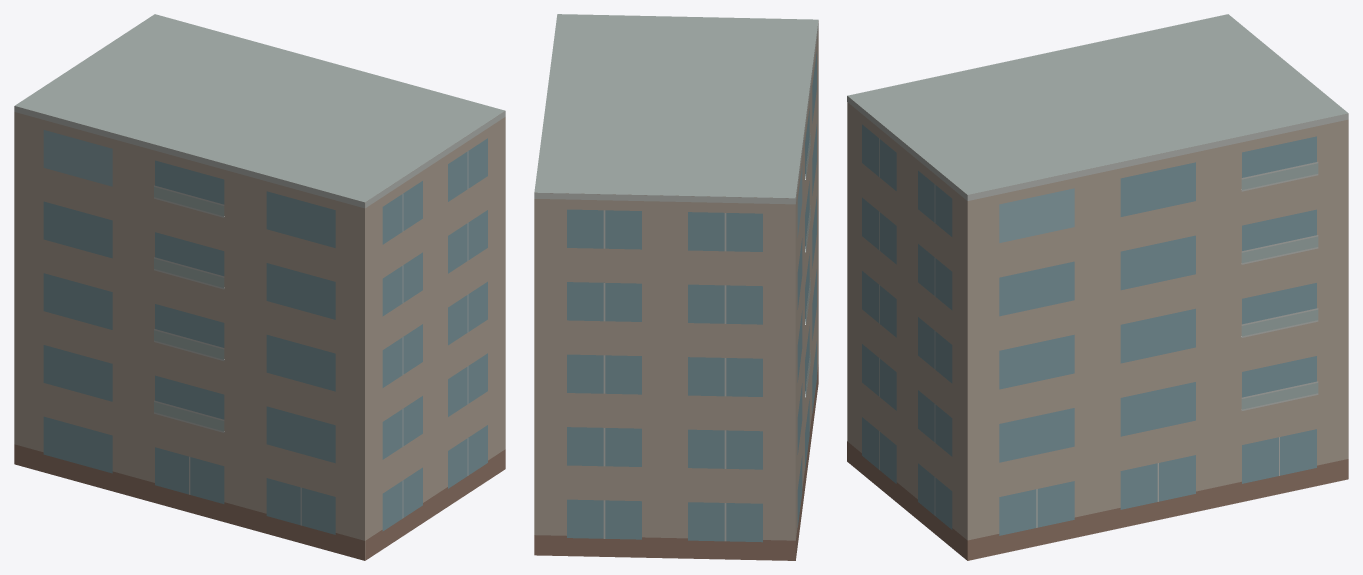
Rendered from survey-upis-32637670.glb.
The picture shows the model from 3 angles, left to right: view 1: azimuth 30°, elevation 25°; view 2: azimuth 150°, elevation 25°; view 3: azimuth 270°, elevation 25°; orthographic projection. The views are drawn at different scales.
Parts seen in each view (by area): view 1: survey-upis-32637670.tmp; view 2: survey-upis-32637670.tmp; view 3: survey-upis-32637670.tmp.
Part boxes in pixels (bbox=[...]): survey-upis-32637670.tmp: bbox=[14, 14, 505, 560]; survey-upis-32637670.tmp: bbox=[534, 14, 818, 560]; survey-upis-32637670.tmp: bbox=[847, 14, 1348, 560].
Bounding box in the file's own units: 15.39 × 14.5 × 18.02.
